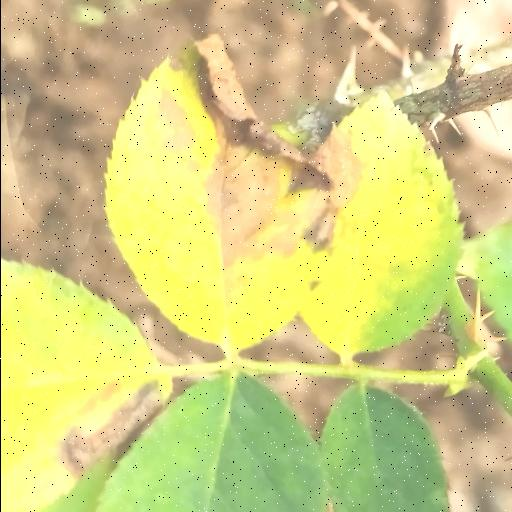thrip: (106, 48, 326, 352), (300, 94, 462, 362), (0, 260, 157, 512)
